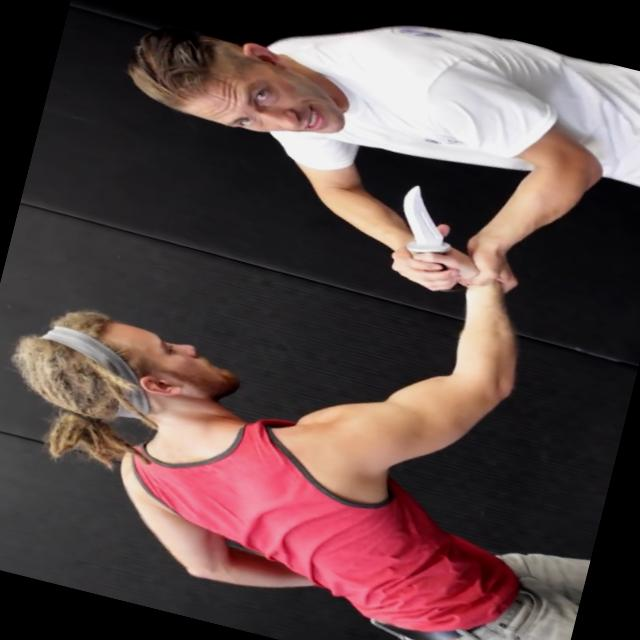knife: (370, 175, 492, 298)
